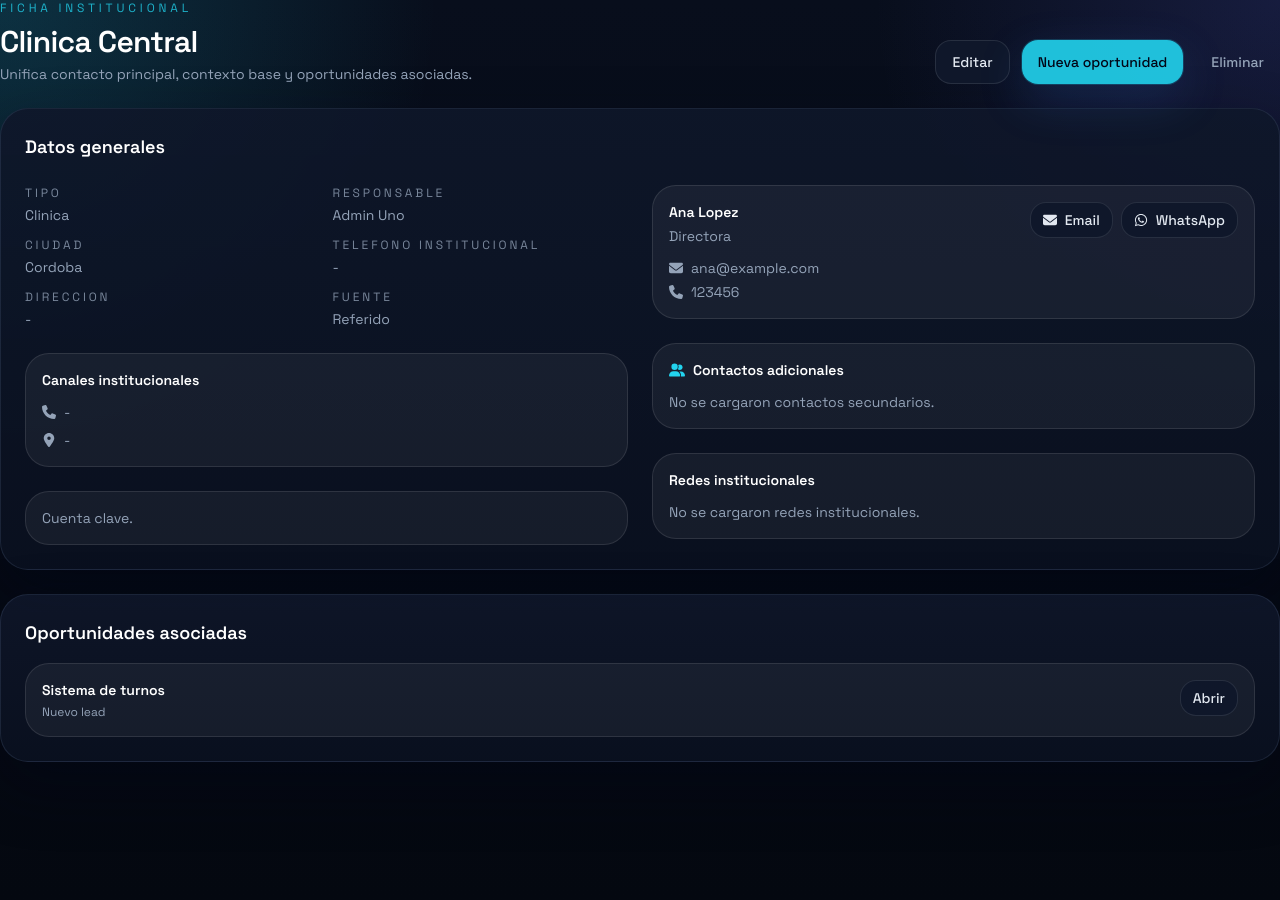
Test: InstitutionDetailPage › cierra el modal sin borrar al cancelar
expect the heading "Clinica Central" is shown: met, box [0, 22, 198, 61]
Step 1. Click the button "Eliminar" → click(1238, 62), box [1195, 40, 1279, 84]
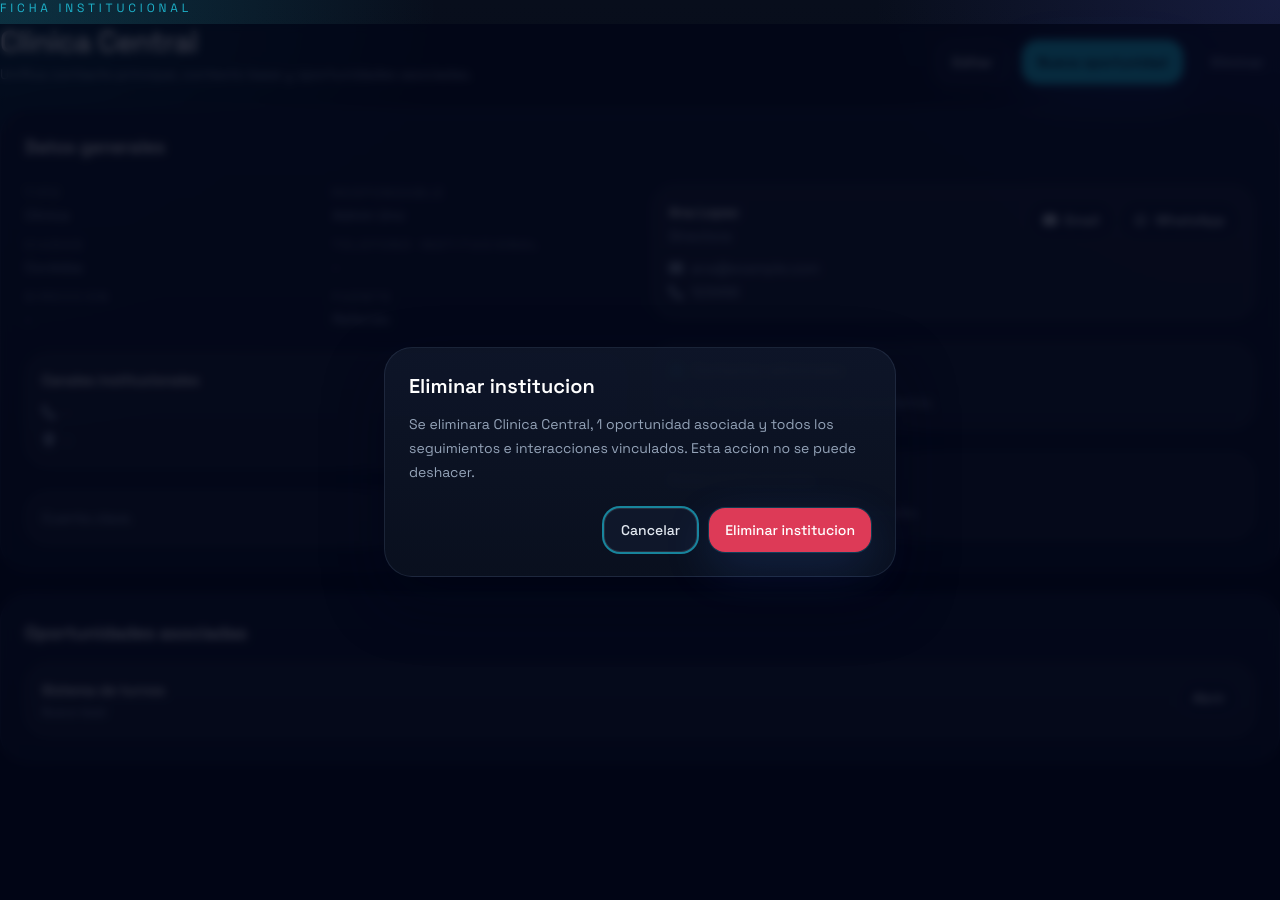
Step 2. Click the button "Cancelar" → click(651, 530), box [604, 508, 697, 552]
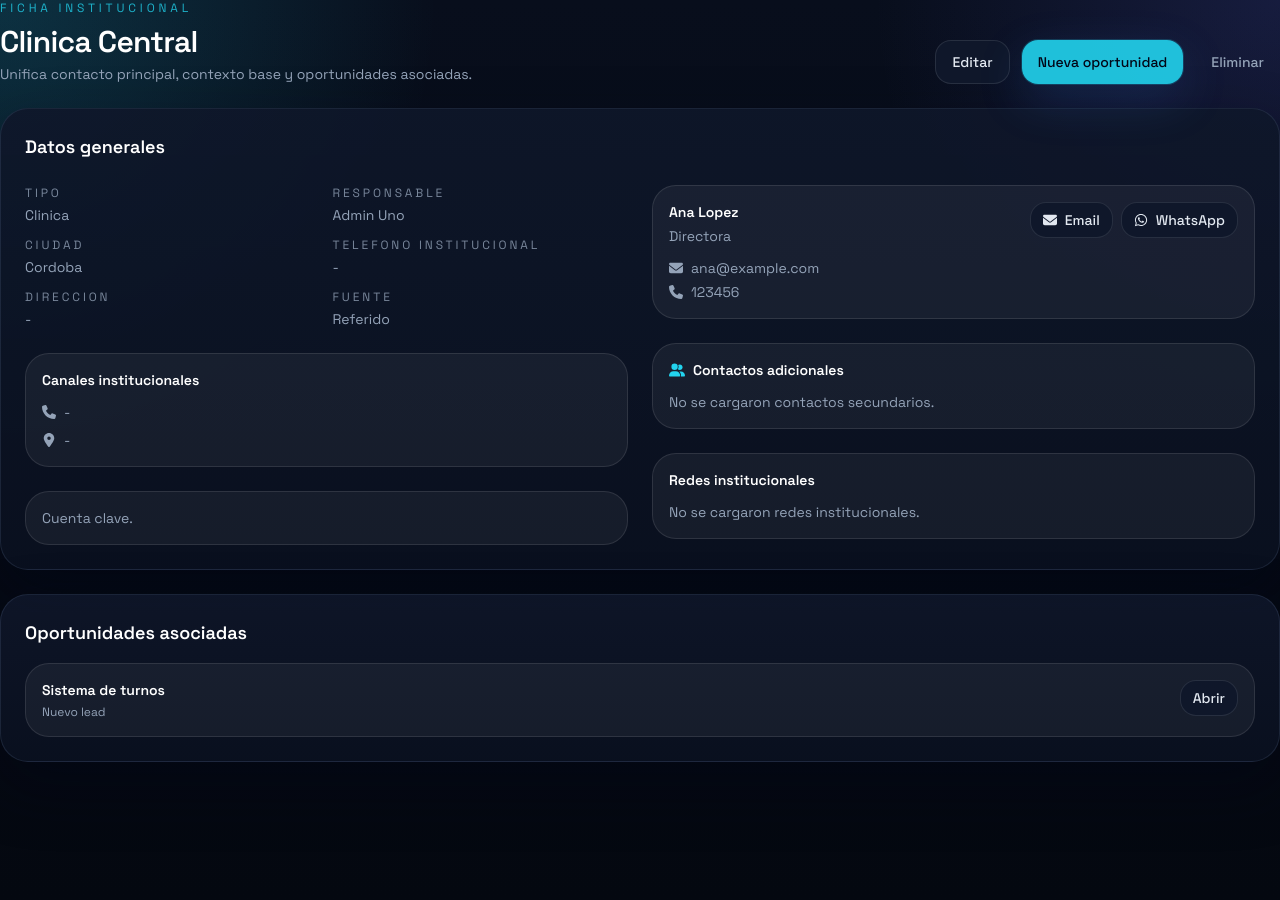
expect the heading "Eliminar institucion" is gone: met
